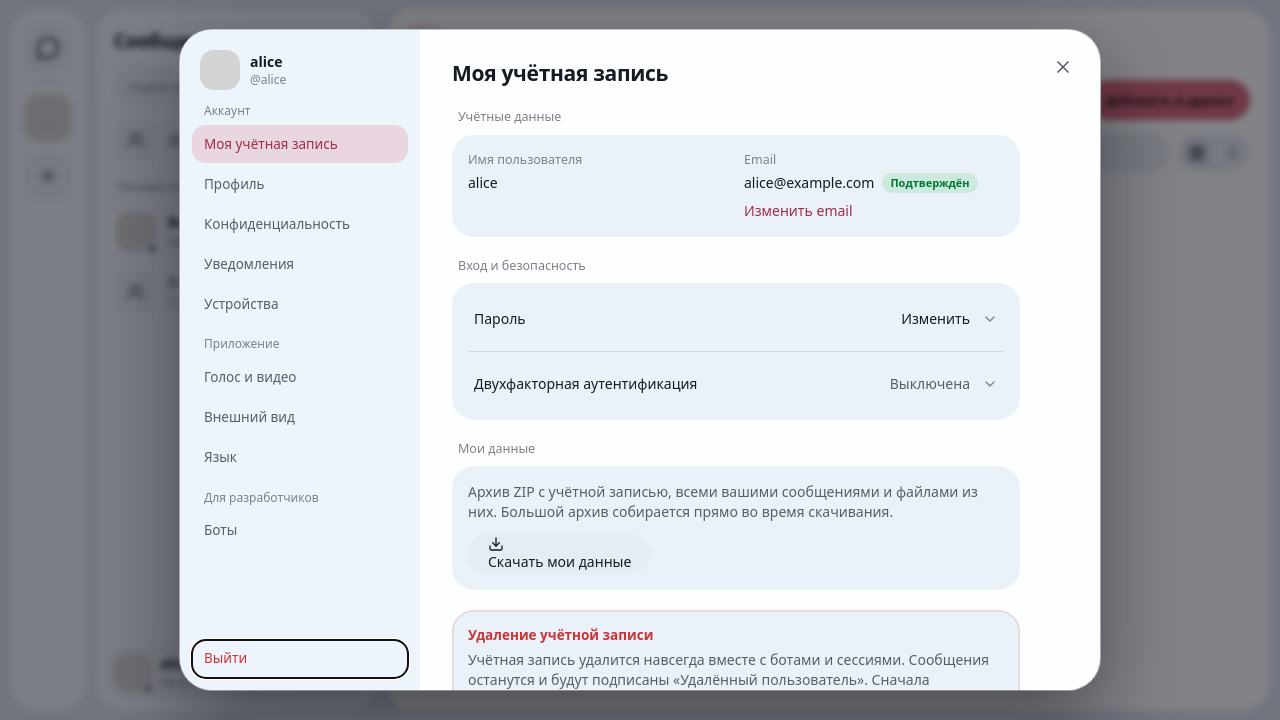
account section › keeps the password and two-factor forms folded into rows until opened
The width and height of the screenshot is (1280, 720).
Expected: the button "Двухфакторная аутентификация Выключена" is shown, [468,364,1004,404]
Expected: the field labelled "Текущий пароль" is not shown
Click the button "Пароль Изменить" at (500, 318), box [468,299,1004,339]
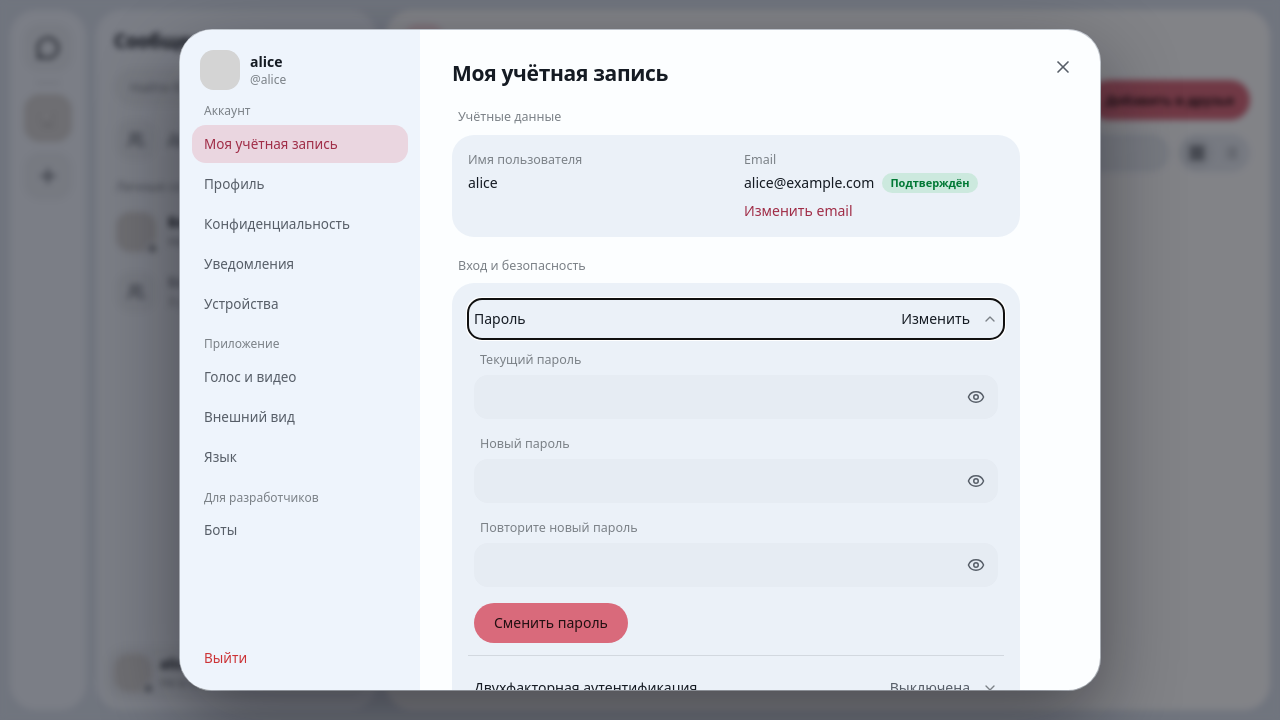
Expected: the button "Пароль Изменить" is expanded, [468,299,1004,339]
Click the button "Двухфакторная аутентификация Выключена" at (586, 688), box [468,668,1004,708]
(page scrolled)
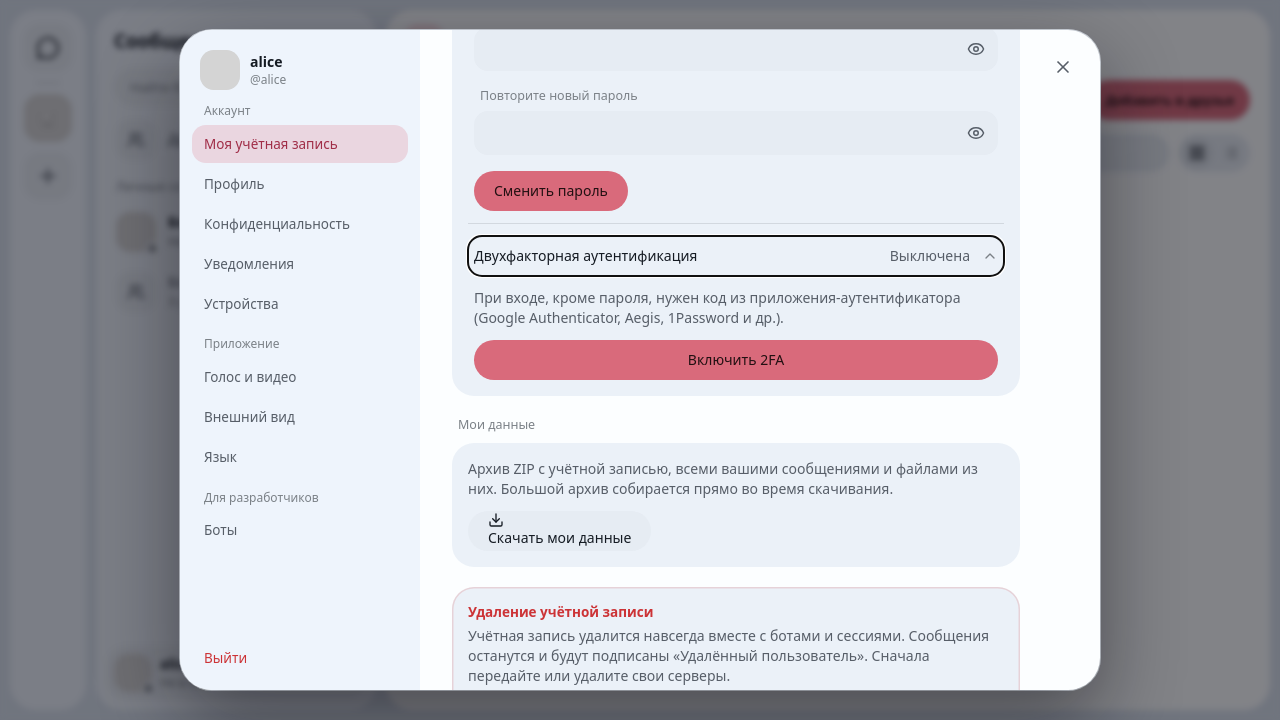
Expected: the button "Включить 2FA" is shown, [474,340,998,380]
